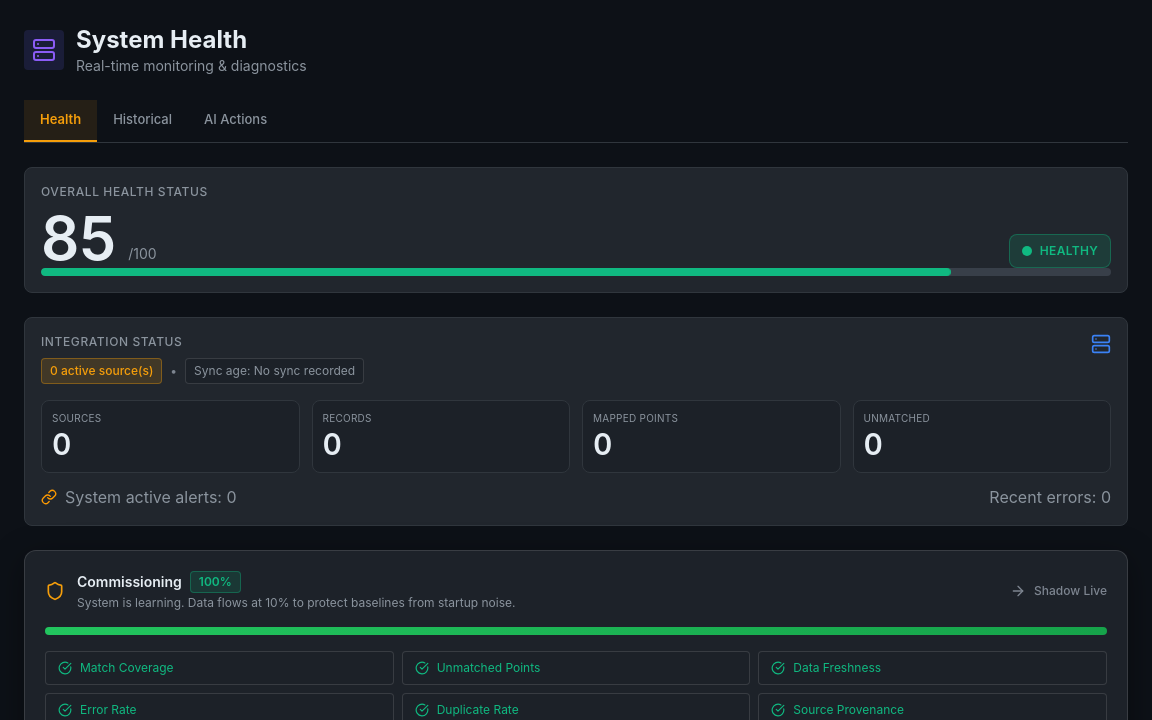
it: SystemHealthPage › Historical Insights Display › should fetch and display average health score
The width and height of the screenshot is (1152, 720).
Expected: the heading "System Health" is shown, [76, 25, 247, 54]
Click the tab "Historical" at [142, 121], box [97, 100, 188, 142]
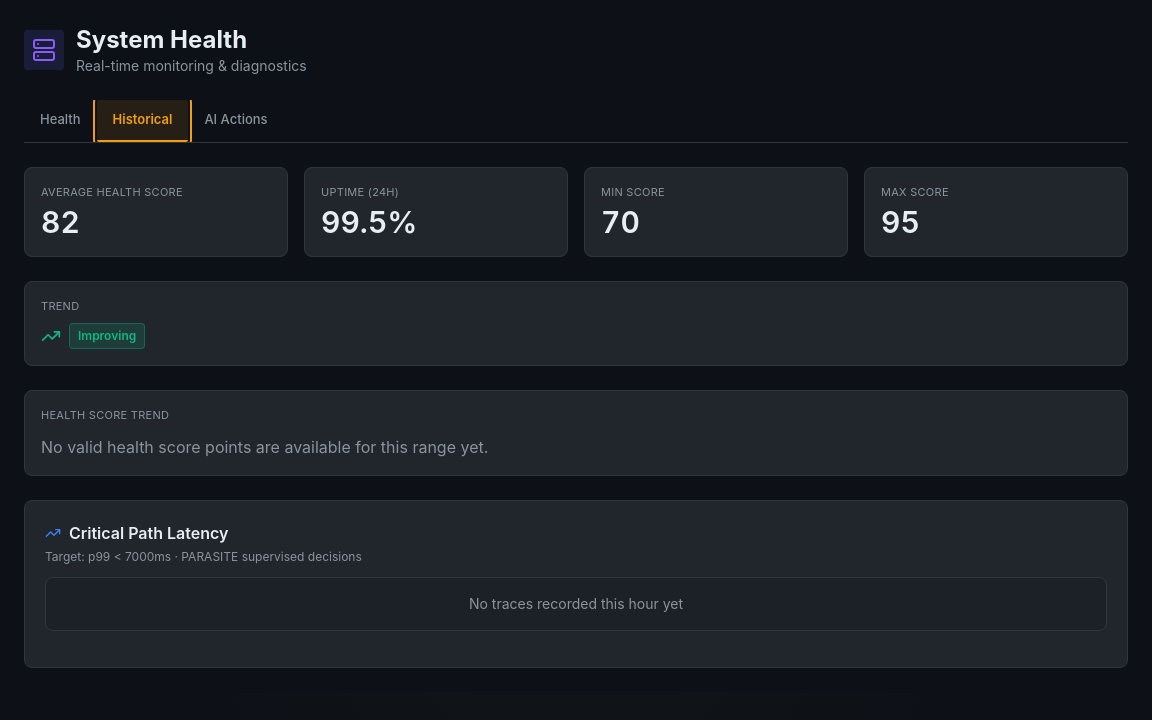
Now the text "Average Health Score" is shown, box [41, 184, 183, 198]
Now the text "82" is shown, box [41, 204, 80, 240]
